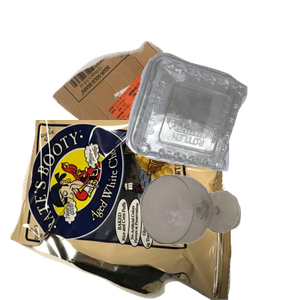cardboard: (50, 38, 233, 184)
glass: (138, 172, 300, 300)
plastic: (123, 50, 300, 214)
trash: (10, 120, 235, 300)
